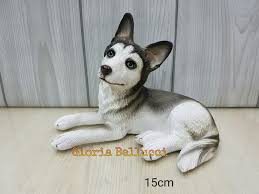Bulldog: (53, 23, 239, 164)
